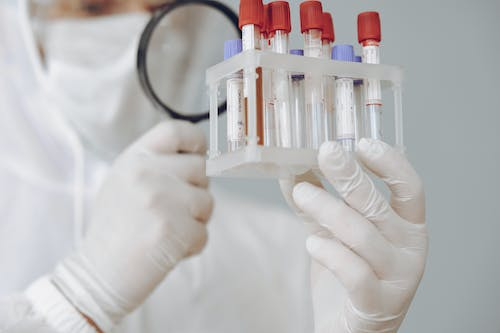blood: (241, 66, 265, 145)
